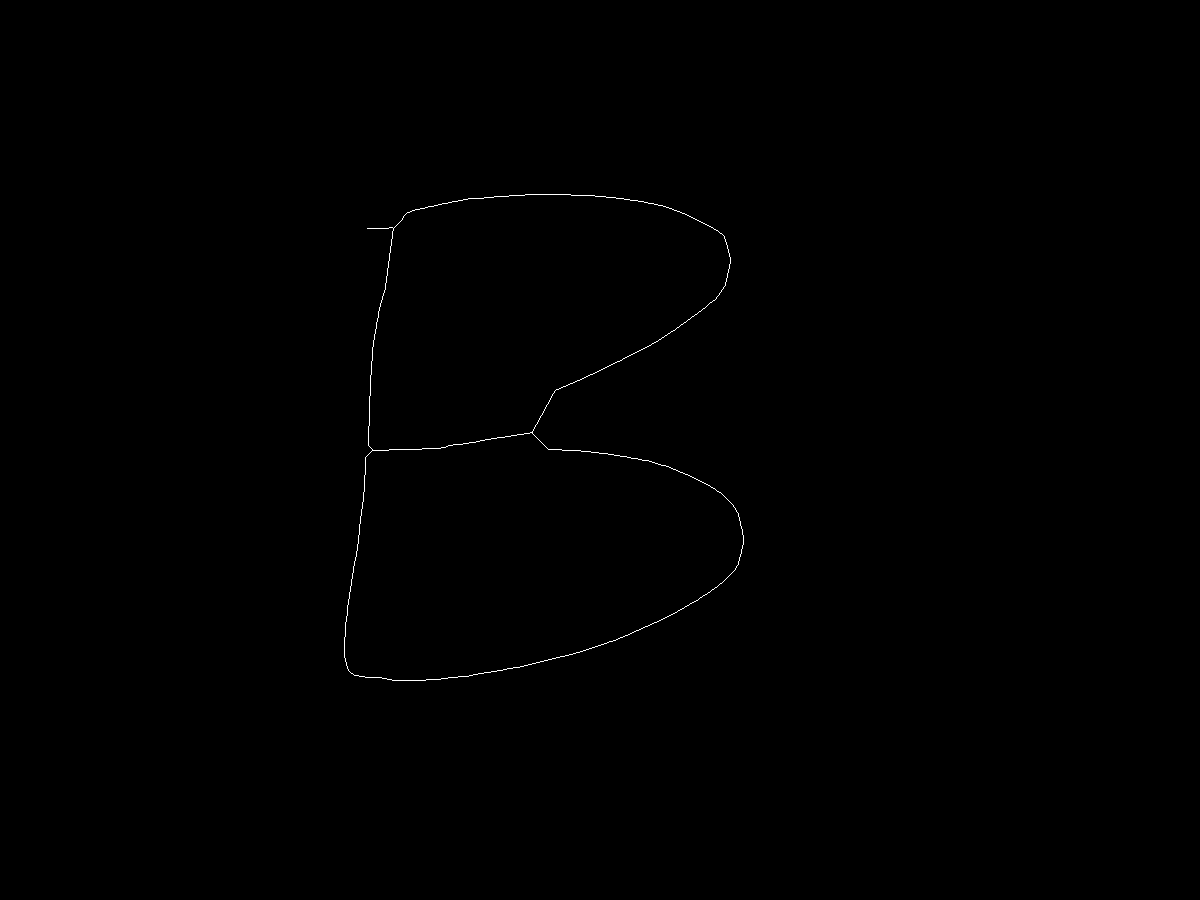dian1: (392, 220, 407, 235)
dian2: (358, 437, 381, 460)
dian3: (338, 660, 356, 678)
dian4: (520, 422, 545, 447)
